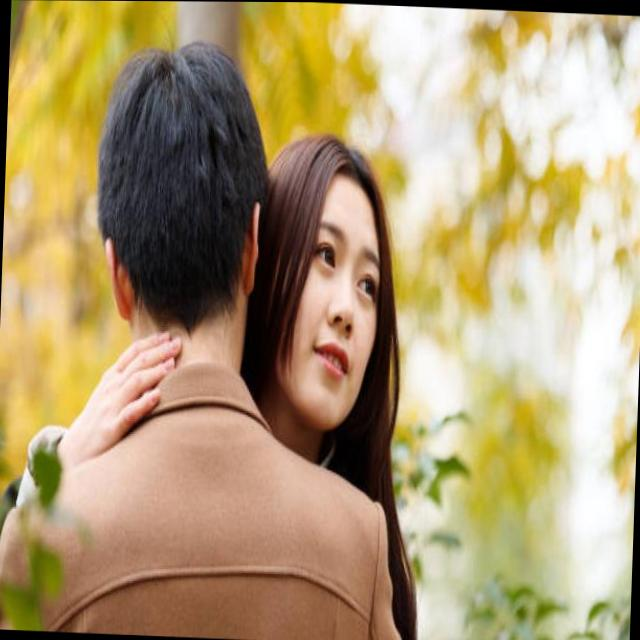no helmet: (93, 44, 265, 350)
